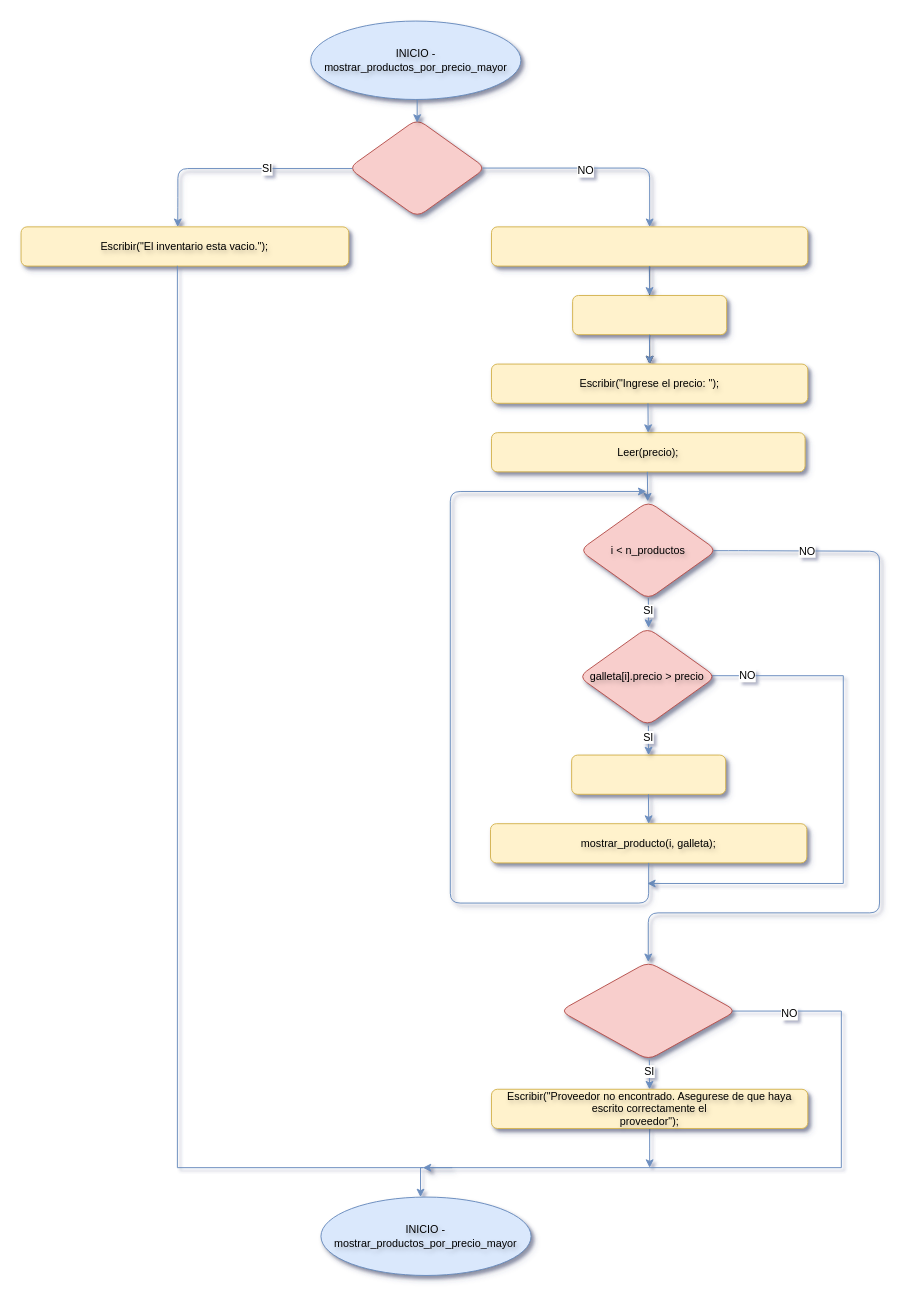
Some shapes in this 916 by 1305 pixel diagram are drawn without their labels. The shapes that lost their labels are listed below. From the top down, each one's centre as x and y in pixels, then its label:
(418,169): n_productos = 0
(650,247): Escribir("*** Mostrar productos con precio mayor ***");
(650,316): existen_productos_precio_mayor = FALSO;
(649,775): existen_productos_precio_mayor = VERDADERO;
(648,1012): proveedor_encontrado = FALSO
